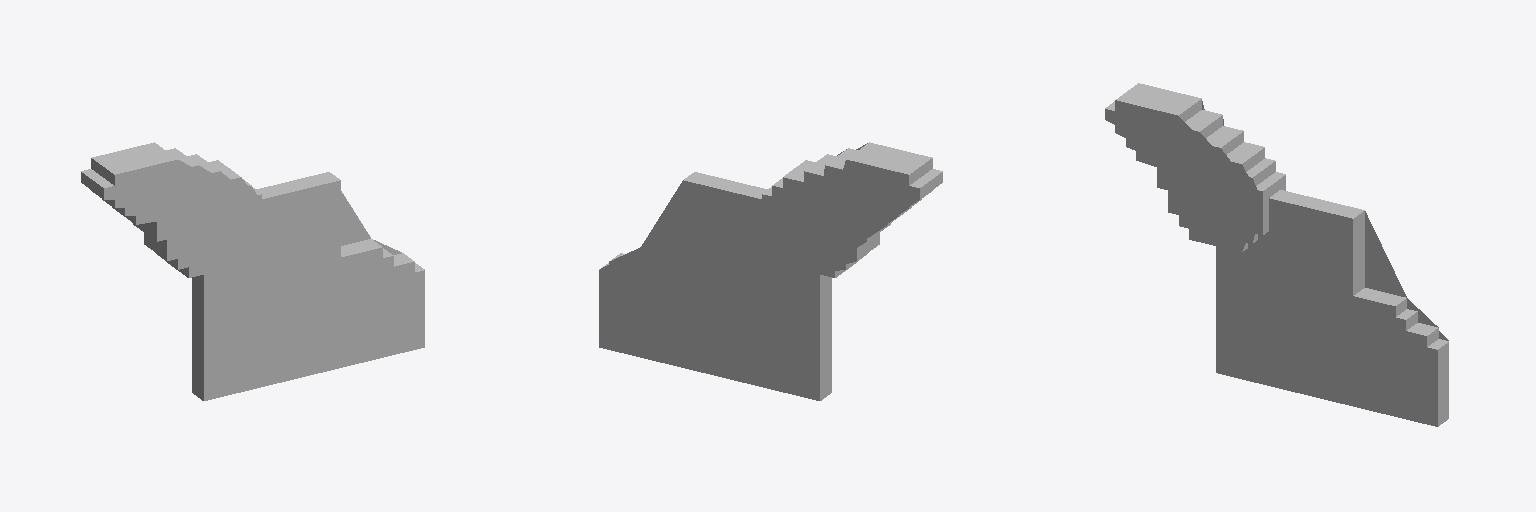
Rendered from Stamina.obj.
3 views of the same model, side by side, from view 1: azimuth 30°, elevation 25°; view 2: azimuth 150°, elevation 25°; view 3: azimuth 330°, elevation 25° (orthographic).
Parts seen in each view (by area): view 1: Stamina_Plane.098; view 2: Stamina_Plane.098; view 3: Stamina_Plane.098.
Boxes of the visible parts, x1=… form: Stamina_Plane.098: x1=81, y1=142, x2=424, y2=400; Stamina_Plane.098: x1=599, y1=142, x2=942, y2=400; Stamina_Plane.098: x1=1105, y1=83, x2=1448, y2=426.
Bounding box in the file's own units: 1.61 × 1.2 × 0.2.